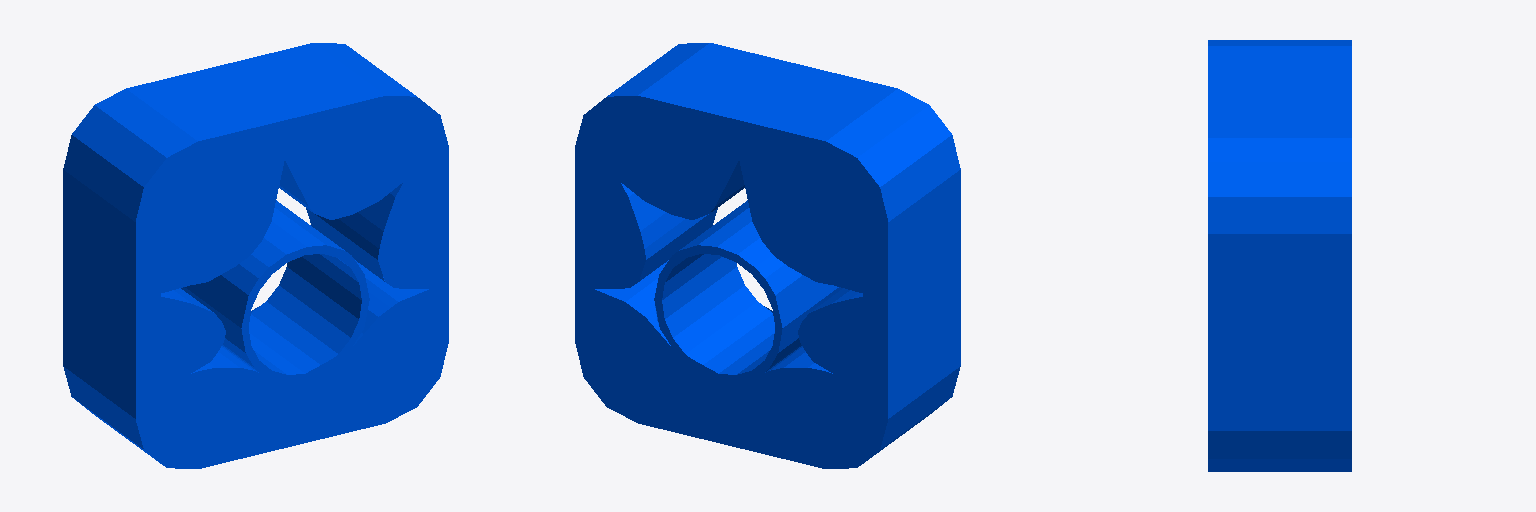
The model's file is pwup_quad_damage.obj.
3 renders of one model, left to right at view 1: azimuth 30°, elevation 25°; view 2: azimuth 150°, elevation 25°; view 3: azimuth 270°, elevation 25°, orthographic.
Visible parts, largest first — view 1: polySurface2; view 2: polySurface2; view 3: polySurface2.
Part boxes in pixels (x1,y1,x2,y2): polySurface2: (63,43,448,468); polySurface2: (575,43,960,468); polySurface2: (1208,40,1351,471).
Size of the model in its own units: 0.5 by 0.5 by 0.2.